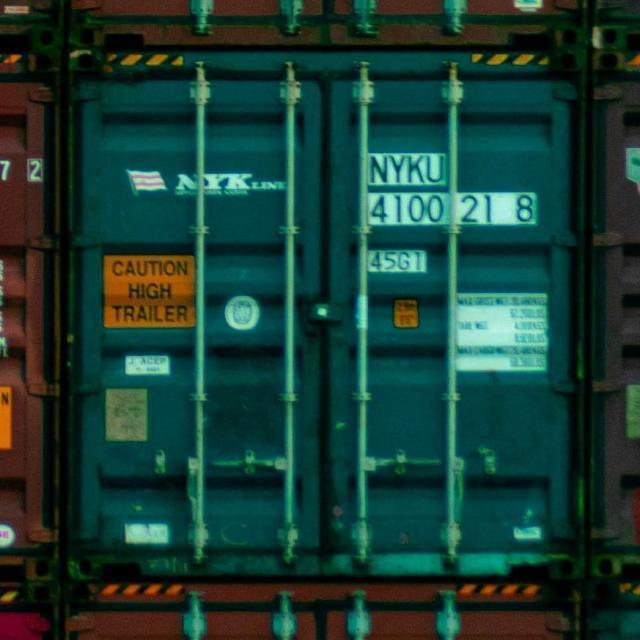ISO: (364, 248, 432, 272)
container_number: (353, 150, 541, 232)
